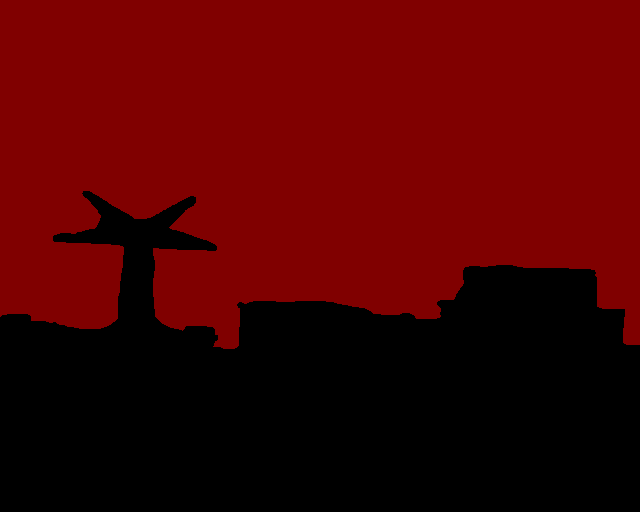Sky: (1, 1, 639, 348)
